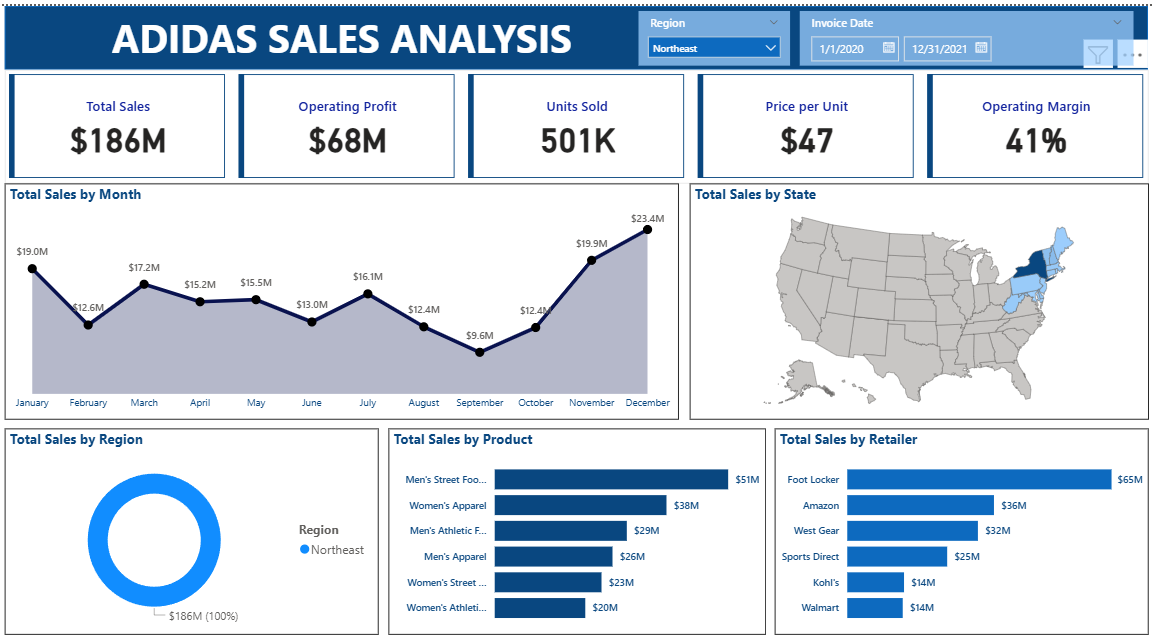

The page's visual inventory and layout, read from the dashboard file:
{"tool":"powerbi","page":{"name":"Page 1","canvas":[1280,720],"ordinal":0},"visuals":[{"type":"shape","box":[10,0,1255,70],"z":0},{"type":"textbox","box":[122.1,0,532.4,70],"z":1000},{"type":"cardVisual","fields":{"Data":["Sum(Data Sales Adidas.Total Sales)","Sum(Data Sales Adidas.Operating Profit)","Sum(Data Sales Adidas.Units Sold)","Avg(Data Sales Adidas.Price per Unit)","Avg(Data Sales Adidas.Operating Margin)"]},"box":[9.6,70,1255.6,124.9],"z":2000},{"type":"areaChart","title":"Total Sales by Month","fields":{"Category":["Data Sales Adidas.Invoice Date.Variation.Date Hierarchy.Month"],"Y":["Sum(Data Sales Adidas.Total Sales)"]},"box":[9.6,194.9,739.6,259.3],"z":3000},{"type":"shapeMap","title":"Total Sales by State","fields":{"Category":["Data Sales Adidas.State"],"Value":["Sum(Data Sales Adidas.Total Sales)"]},"box":[761.6,194.9,503.6,259.3],"z":4000},{"type":"donutChart","title":"Total Sales by Region","fields":{"Category":["Data Sales Adidas.Region"],"Y":["Sum(Data Sales Adidas.Total Sales)"]},"box":[9.6,463.8,410,226],"z":5000},{"type":"barChart","title":"Total Sales by Product","fields":{"Category":["Data Sales Adidas.Product"],"Y":["Sum(Data Sales Adidas.Total Sales)"]},"box":[430.9,463.8,414.4,226.4],"z":6000},{"type":"barChart","title":"Total Sales by Retailer","fields":{"Y":["Sum(Data Sales Adidas.Total Sales)"],"Category":["Data Sales Adidas.Retailer"]},"box":[854.9,463.8,410.3,226.4],"z":7000},{"type":"slicer","fields":{"Values":["Data Sales Adidas.Region"]},"box":[705.3,5.5,166,60.4],"z":8000},{"type":"slicer","fields":{"Values":["Data Sales Adidas.Invoice Date"]},"box":[882.3,5.5,366.4,60.4],"z":9000}]}

Visuals, with their boxes in screenshot pixels (x1, y1, x2, y2), scaled from the page's 1280x720 canvas onto the 1153x642 screenshot:
shape: Rect(9, 0, 1139, 62)
textbox: Rect(110, 0, 590, 62)
cardVisual - Sum(Data Sales Adidas.Total Sales) x Sum(Data Sales Adidas.Operating Profit): Rect(9, 62, 1140, 174)
"Total Sales by Month" areaChart: Rect(9, 174, 675, 405)
"Total Sales by State" shapeMap: Rect(686, 174, 1140, 405)
"Total Sales by Region" donutChart: Rect(9, 414, 378, 615)
"Total Sales by Product" barChart: Rect(388, 414, 761, 615)
"Total Sales by Retailer" barChart: Rect(770, 414, 1140, 615)
slicer - Data Sales Adidas.Region: Rect(635, 5, 785, 59)
slicer - Data Sales Adidas.Invoice Date: Rect(795, 5, 1125, 59)
